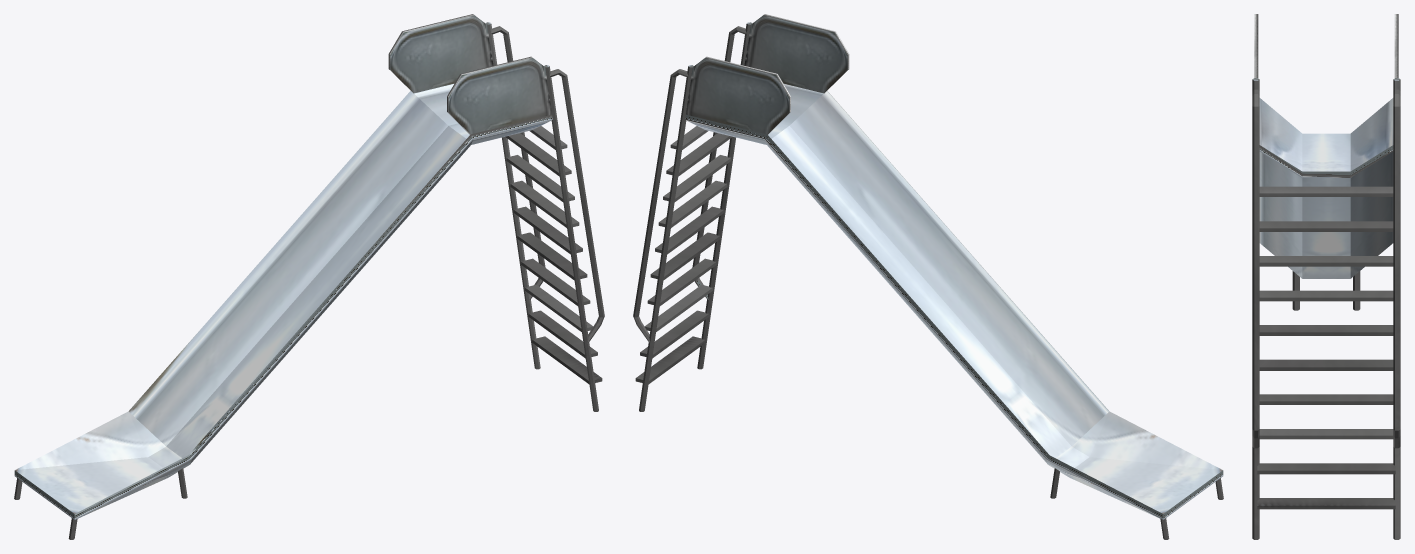
The model's file is Slide01.obj.
3 views of the same model, side by side, from view 1: azimuth 30°, elevation 25°; view 2: azimuth 150°, elevation 25°; view 3: azimuth 270°, elevation 25° (orthographic). The views are drawn at different scales.
Parts seen in each view (by area): view 1: Slide01; view 2: Slide01; view 3: Slide01.
Part boxes in pixels (bbox=[...]): Slide01: bbox=[14, 14, 604, 539]; Slide01: bbox=[633, 14, 1223, 539]; Slide01: bbox=[1252, 14, 1400, 539].
Bounding box in the file's own units: 4.9 × 3.27 × 0.9782.
